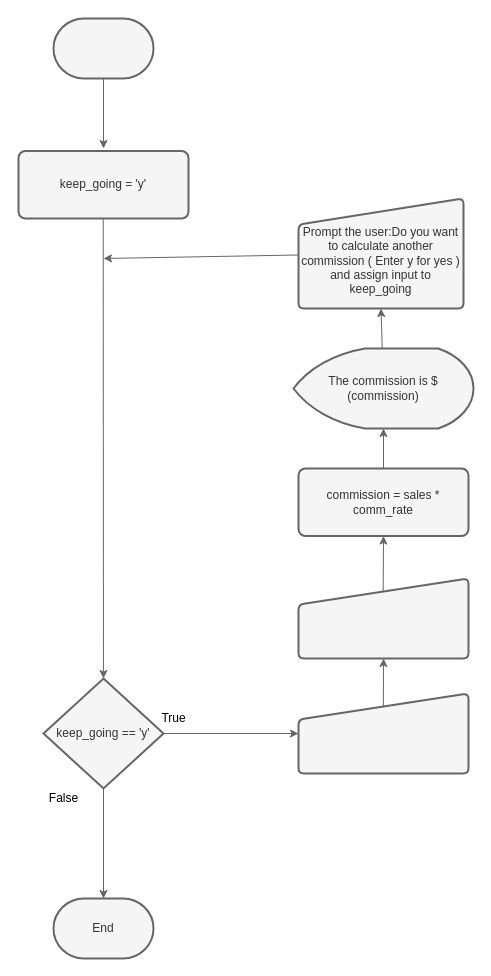
Some shapes in this 491 by 976 pixel diagram are drawn without their labels. Here are the shapes that lost their labels. From the top down, the box of each, then its label:
(52, 17, 154, 79): Start
(297, 577, 469, 659): Prompt the user to enter commission rate and assign it to comm_rate
(297, 692, 469, 774): Prompt the user to enter amount of seles and assign it to sales
